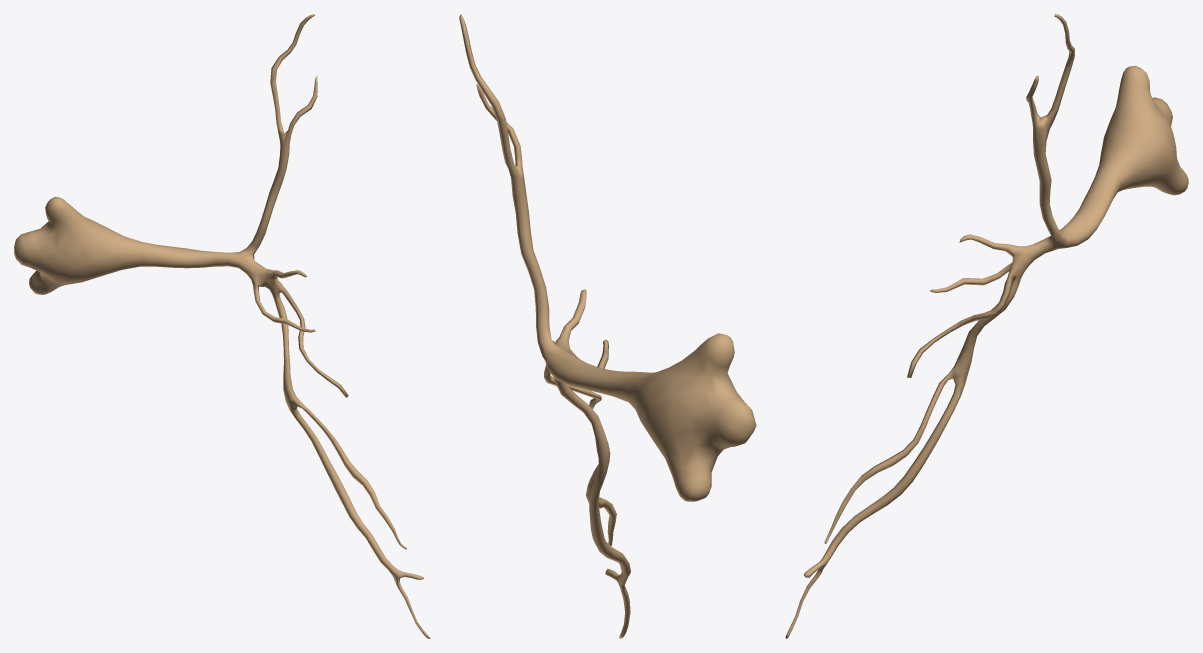
The model's file is n_cnv2.obj.
3 renders of one model, left to right at view 1: azimuth 30°, elevation 25°; view 2: azimuth 150°, elevation 25°; view 3: azimuth 270°, elevation 25°, orthographic. The views are drawn at different scales.
Parts seen in each view (by area): view 1: Group6980; view 2: Group6980; view 3: Group6980.
Part boxes in pixels (x1,y1,x2,y2): Group6980: (14,14,430,638); Group6980: (459,14,756,638); Group6980: (785,14,1188,638).
Size of the model in its own units: 323 by 647 by 379.
Materials: 1 (1 with a texture image).
